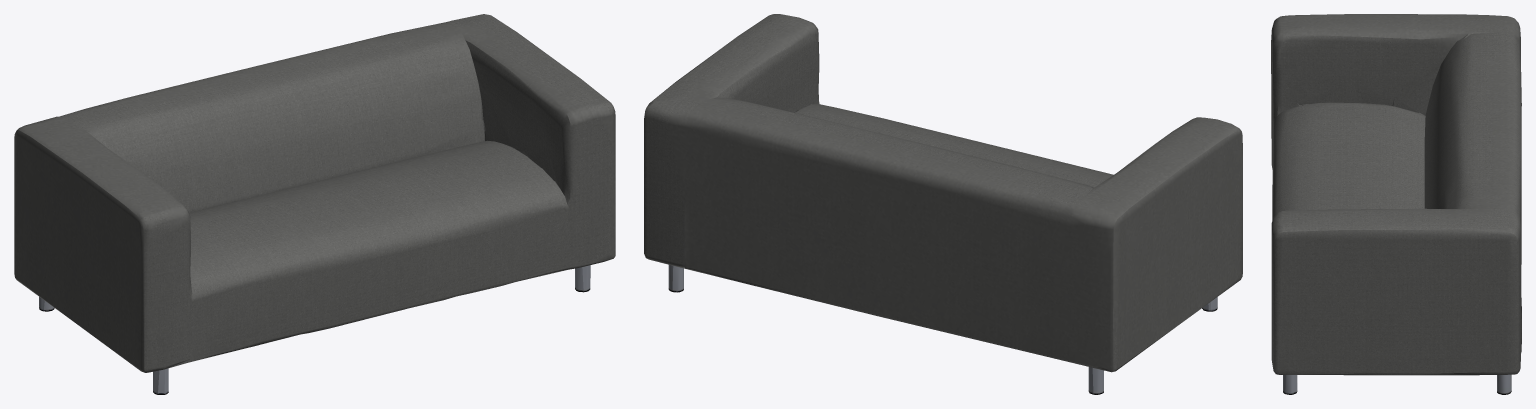
The model's file is 13-KLIPPAN 2 seater sofa - Flackarp medium grey (89246862).glb.
The picture shows the model from 3 angles, left to right: view 1: azimuth 30°, elevation 25°; view 2: azimuth 150°, elevation 25°; view 3: azimuth 270°, elevation 25°; orthographic projection. The views are drawn at different scales.
Parts seen in each view (by area): view 1: ProcessedMeshNode; view 2: ProcessedMeshNode; view 3: ProcessedMeshNode.
Part boxes in pixels (box(x1,y1,x2,y2)): ProcessedMeshNode: box(14, 14, 615, 394); ProcessedMeshNode: box(644, 14, 1242, 394); ProcessedMeshNode: box(1271, 14, 1521, 394).
Bounding box in the file's own units: 1.78 × 0.6752 × 0.8681.
Materials: 1 (1 with a texture image).
